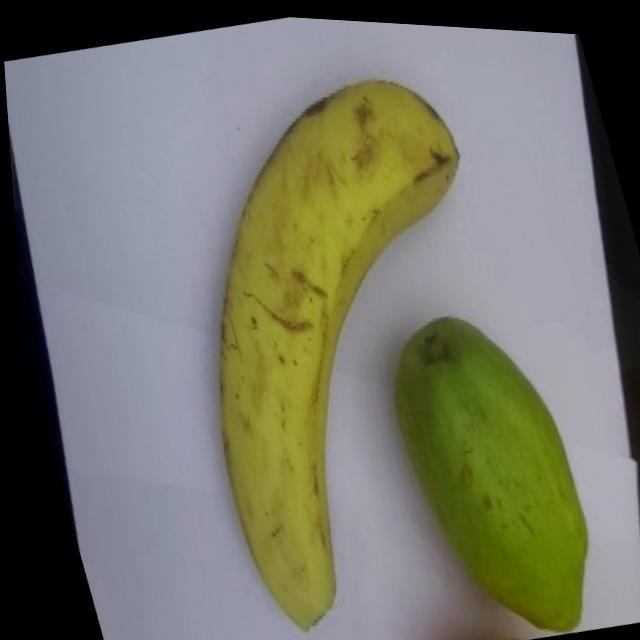Banana: (121, 49, 576, 640)
